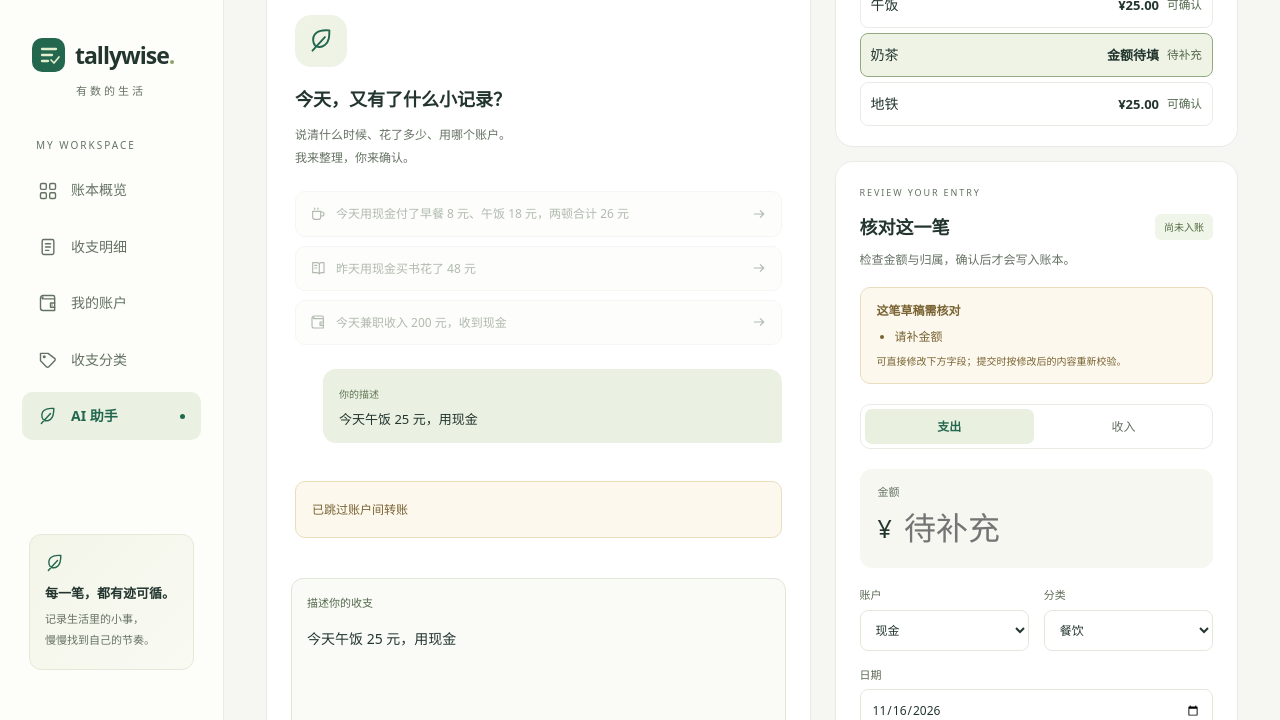
it: AI 助手路由与入账流程 › 多笔可以切换、补全、丢弃和逐笔确认，重试只针对当前笔
Earlier steps of the test are not shown.
(page scrolled)
Type "12" into the field labelled "金额" at (1048, 528), box [902, 501, 1195, 554]
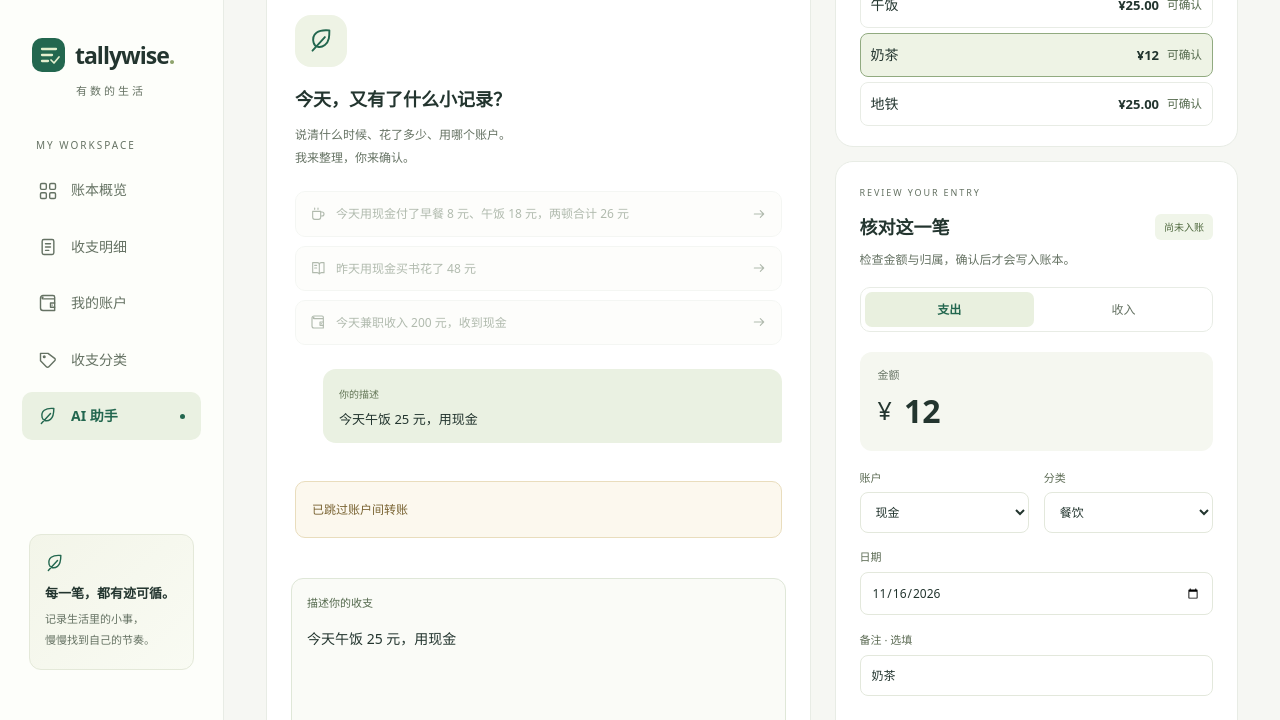
Click the button "地铁 ¥25.00 可确认" at (1139, 104), box [860, 82, 1213, 126]
(page scrolled)
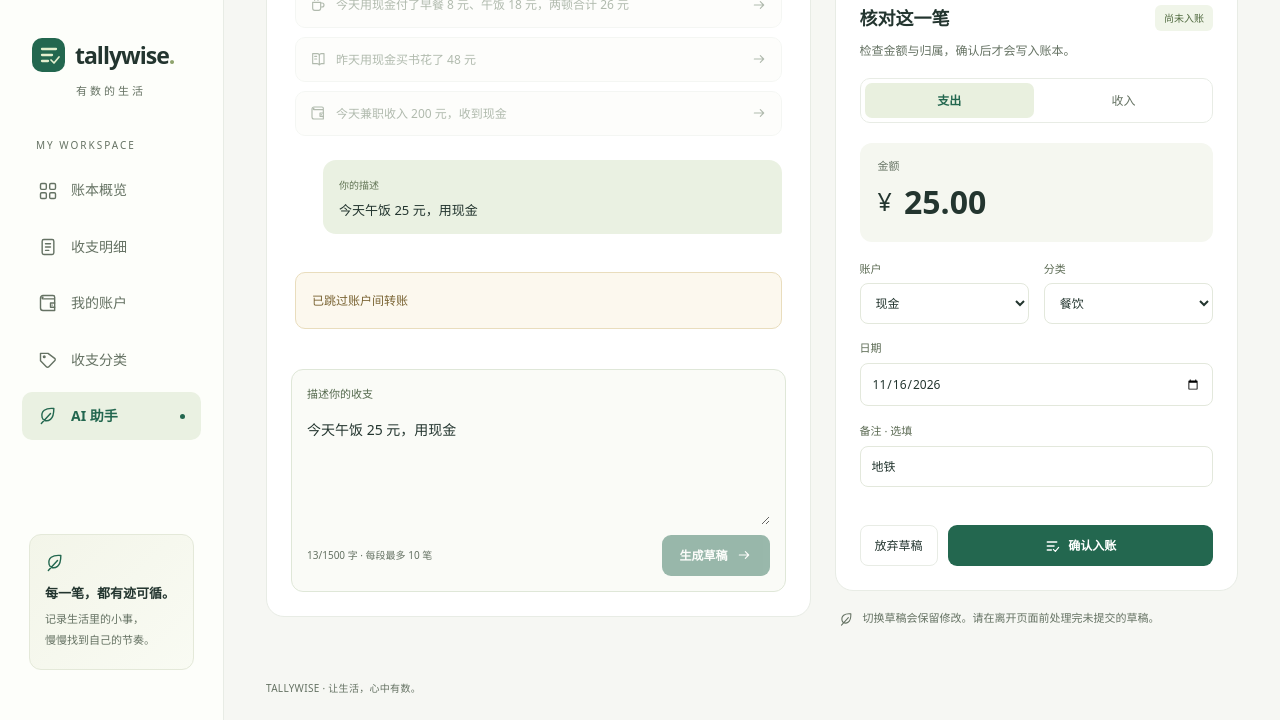
Click the button "放弃草稿" at (899, 546), box [860, 525, 938, 566]
(page scrolled)
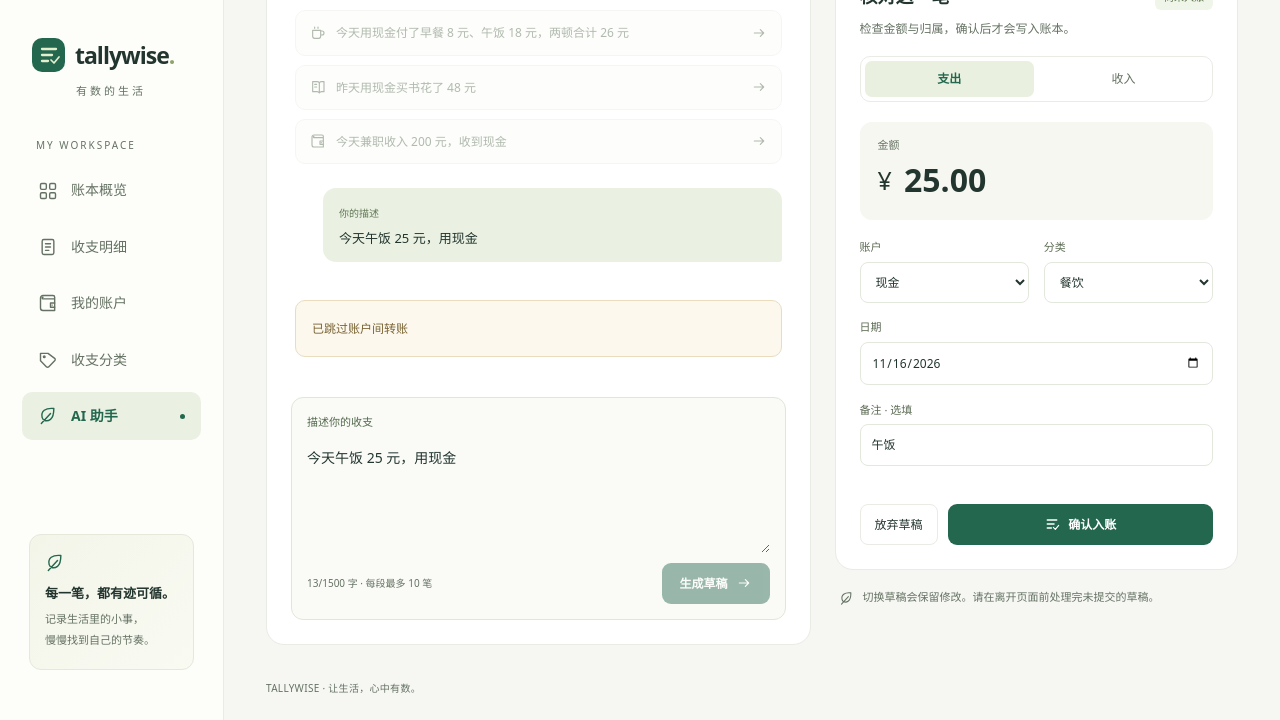
Click the button "确认入账" at (1080, 524), box [948, 504, 1213, 545]
(page scrolled)
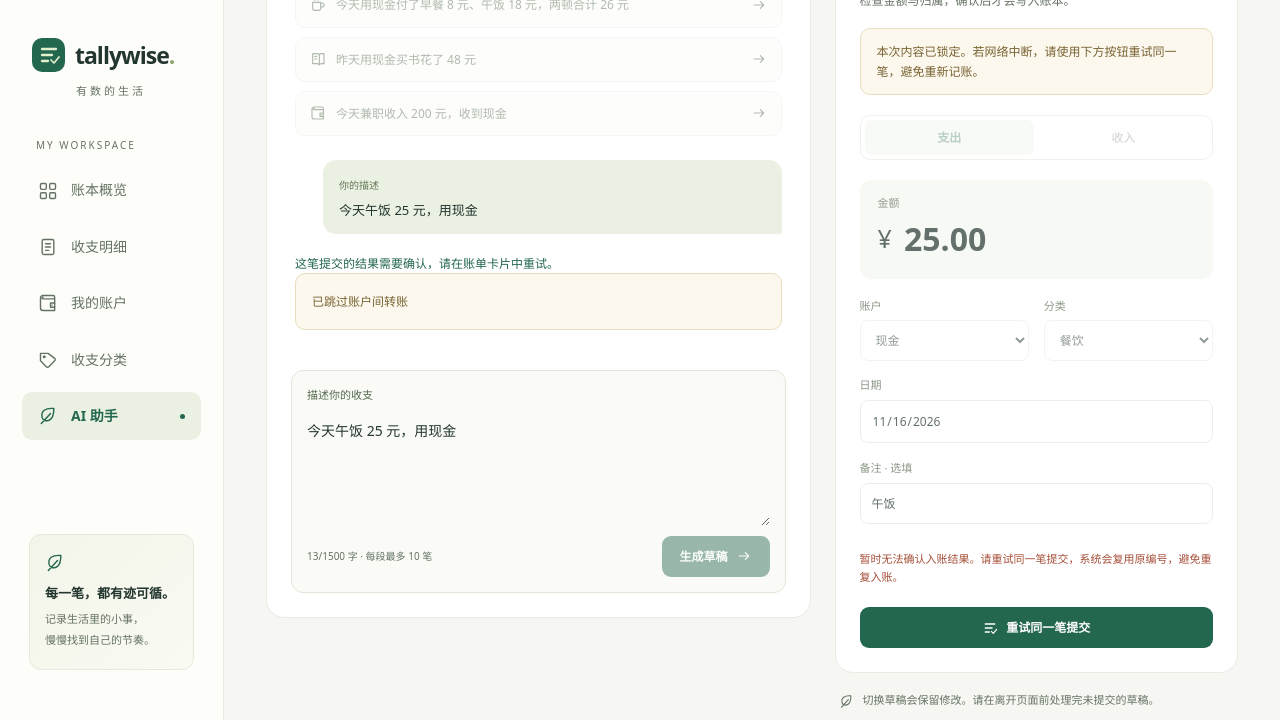
Check: the text "暂时无法确认入账结果。请重试同一笔提交，系统会复用原编号，避免重复入账。" is shown, box [860, 550, 1213, 585]
Click the button "重试同一笔提交" at (1036, 628), box [860, 607, 1213, 648]
(page scrolled)
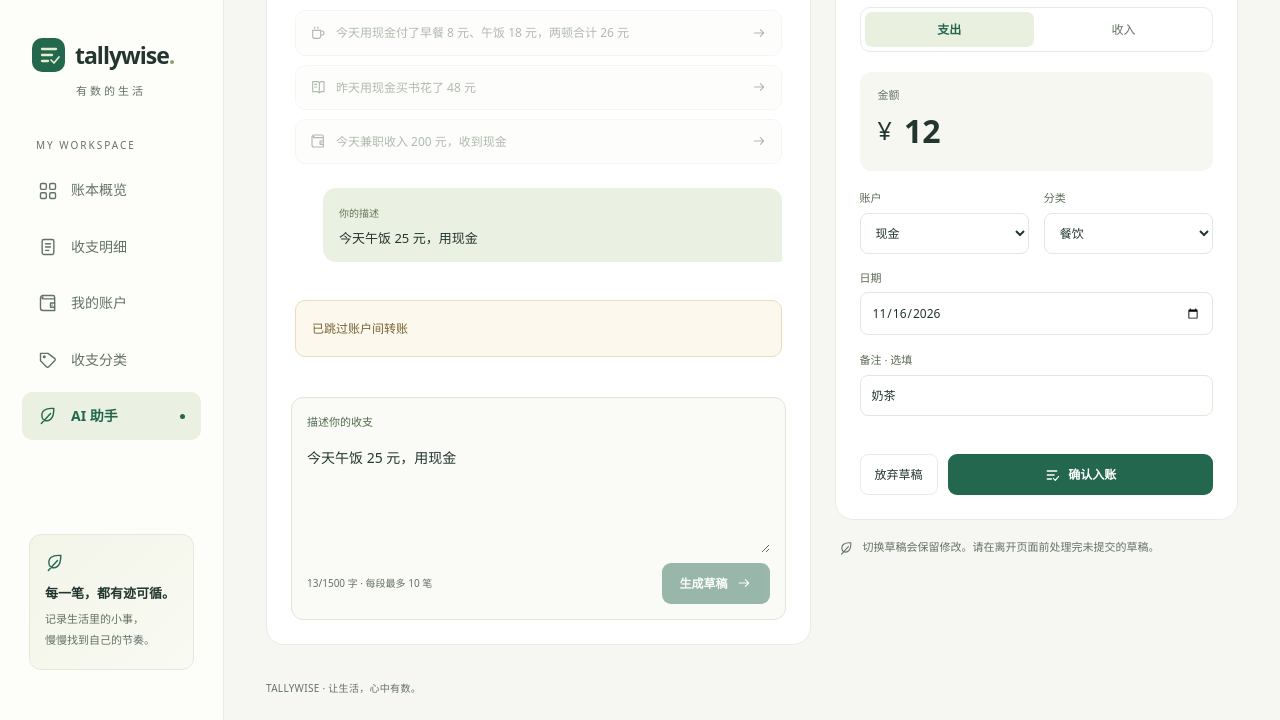
Click the button "确认入账" at (1080, 475), box [948, 454, 1213, 495]
(page scrolled)
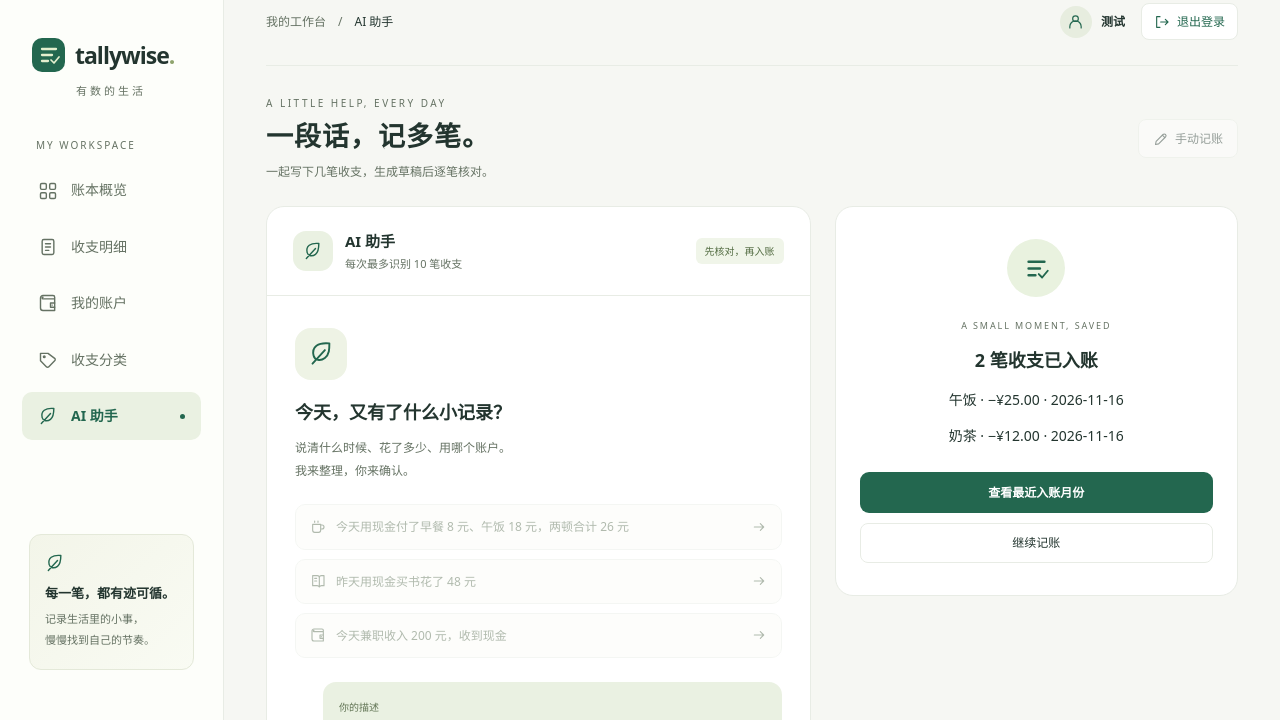
Check: the heading "2 笔收支已入账" is shown, box [975, 348, 1098, 372]
